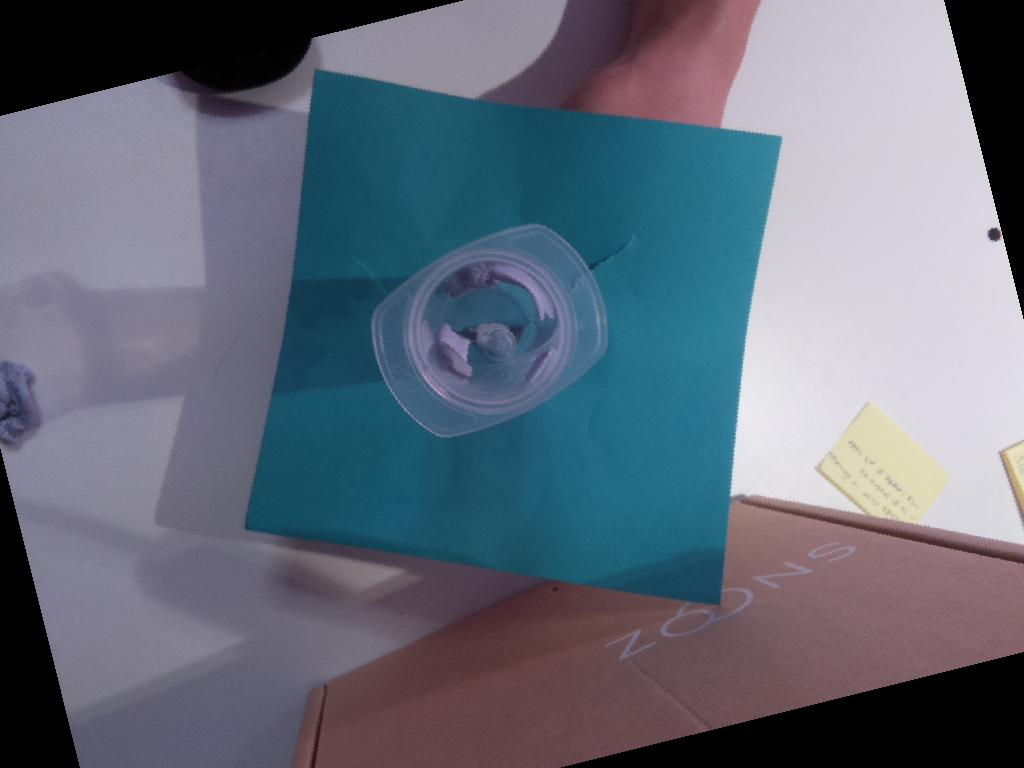dirty: (371, 222, 608, 438)
